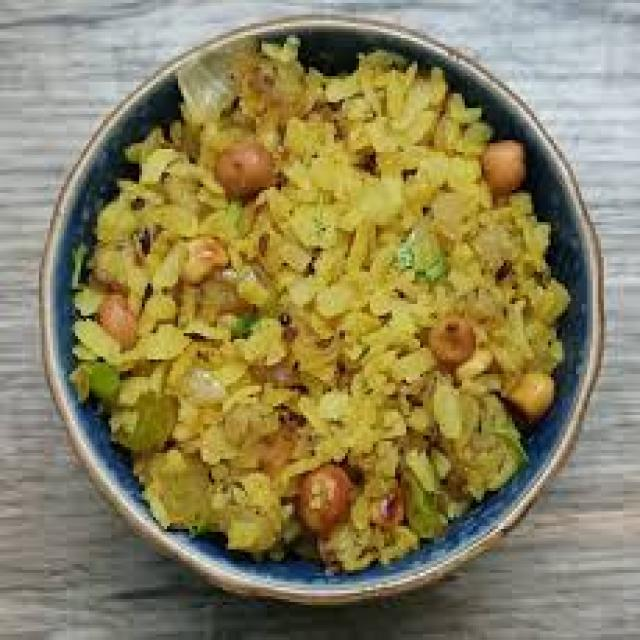POHA: (70, 41, 568, 558)
